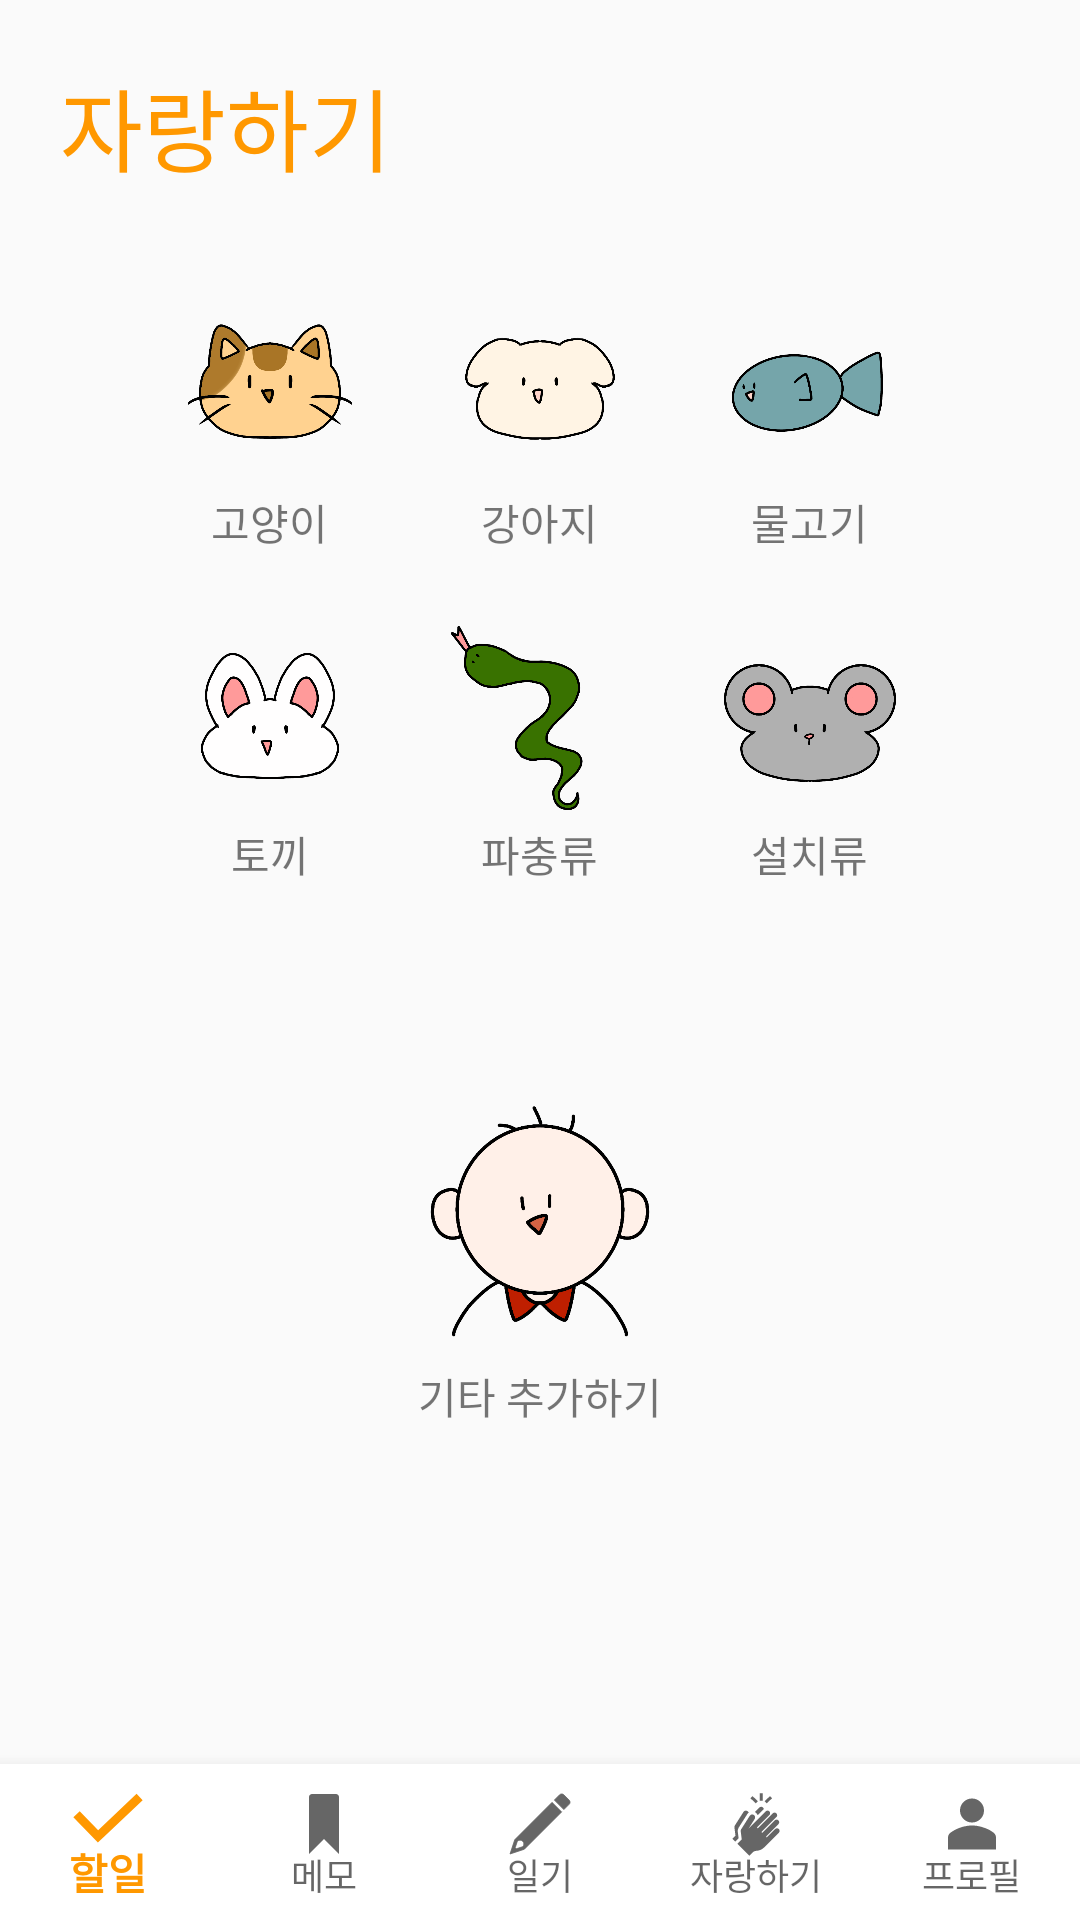

Point at icon controls on the screen. Image size 1080w x 1920h, points as (x,y).
person: (540,1221)
rabbit: (270,716)
rat: (810,723)
snake: (517,718)
